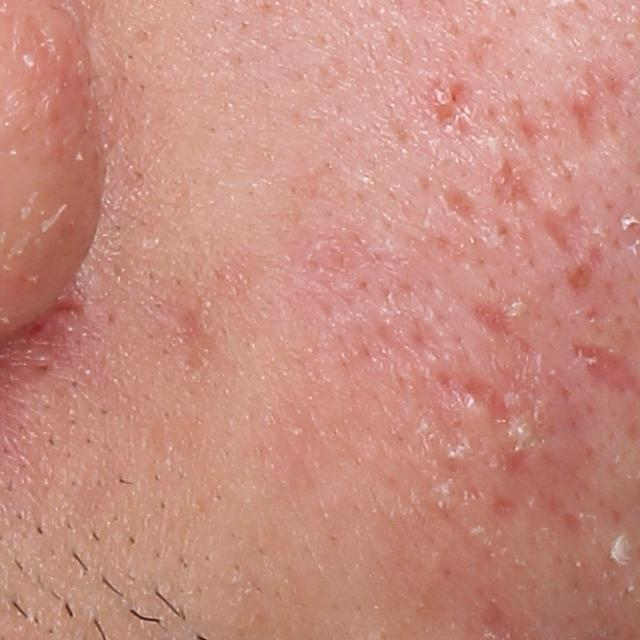atrophic_scar: (489, 156, 542, 213), (437, 183, 487, 234), (563, 245, 609, 294), (542, 209, 582, 257)
